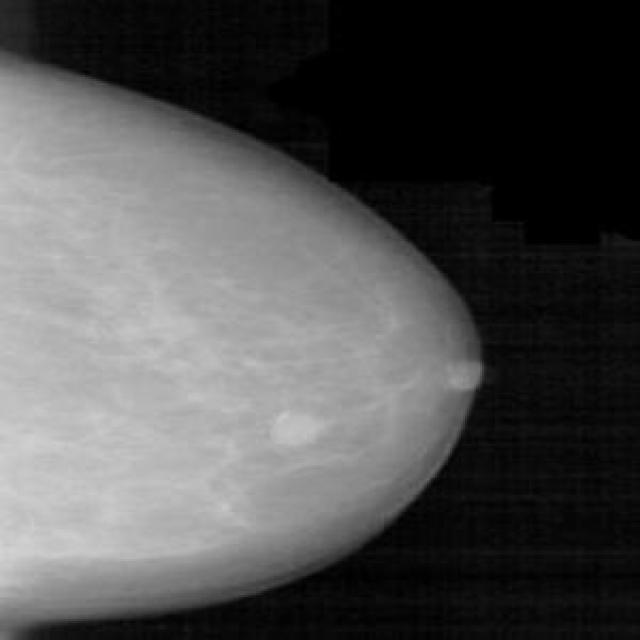tumor: (260, 392, 342, 466)
